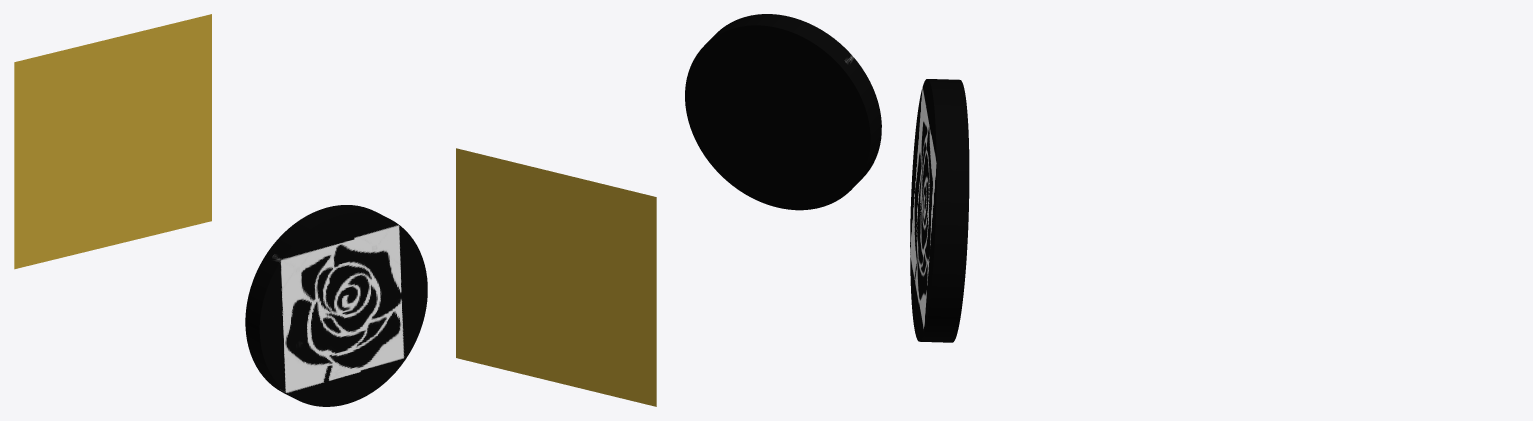
The model's file is Gold_black06_3d.glb.
3 views of the same model, side by side, from view 1: azimuth 30°, elevation 25°; view 2: azimuth 150°, elevation 25°; view 3: azimuth 270°, elevation 25° (orthographic). The views are drawn at different scales.
Visible parts, largest first — view 1: mesh_id1, mesh_id44; view 2: mesh_id1, mesh_id44; view 3: mesh_id44.
Boxes of the visible parts, x1=… form: mesh_id1: x1=14, y1=14, x2=211, y2=269; mesh_id44: x1=245, y1=205, x2=427, y2=406; mesh_id1: x1=456, y1=148, x2=656, y2=406; mesh_id44: x1=685, y1=14, x2=881, y2=210; mesh_id44: x1=910, y1=79, x2=969, y2=342.
Size of the model in its own units: 0.1 by 0.1 by 0.2058.
2 materials, 2 textured.
